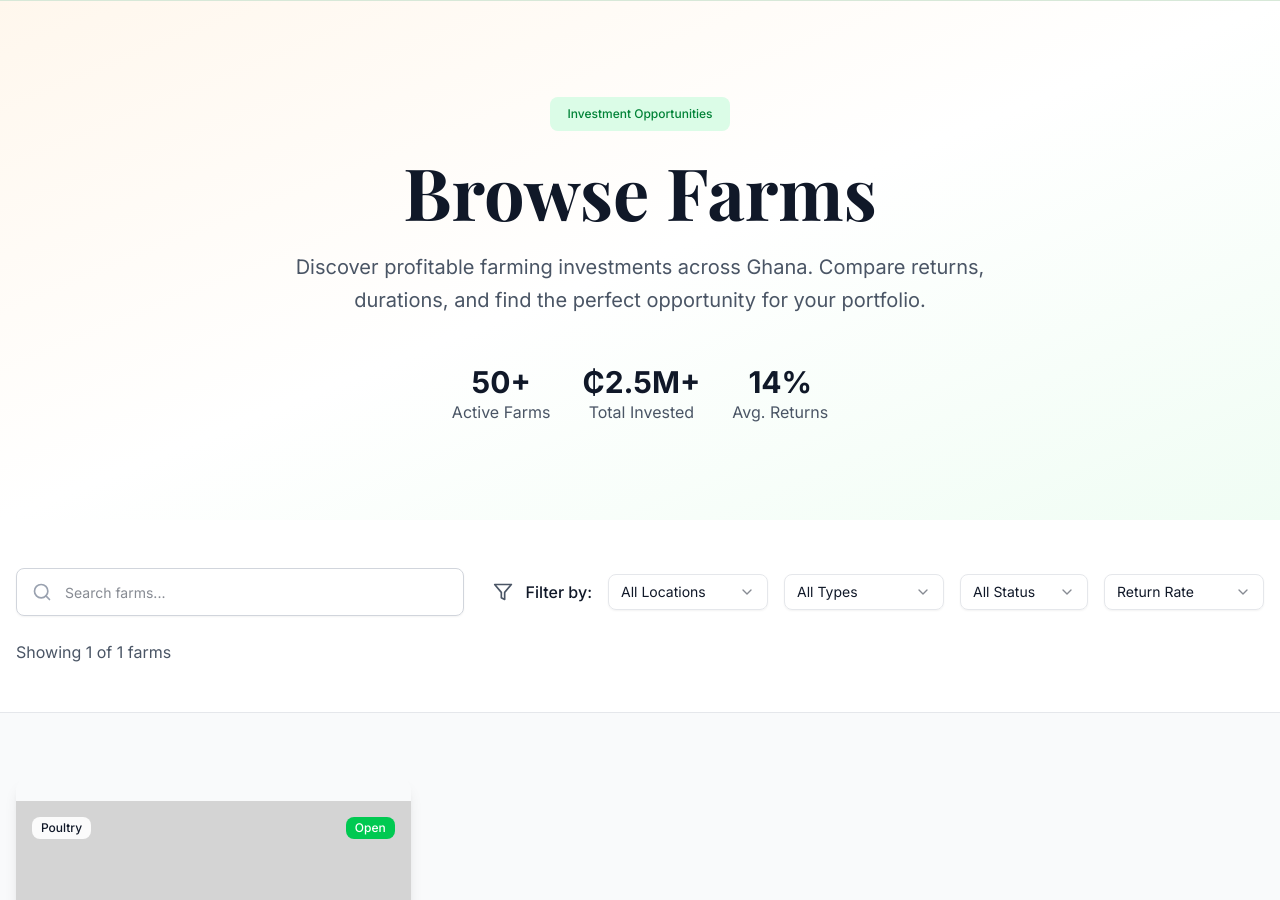
Test: farms pages › filters the loaded farms without refetching
The image size is (1280, 900).
Type "zzz-no-match" into the field with placeholder "Search farms..." at (240, 592), box top-left (16, 568), bottom-right (464, 616)
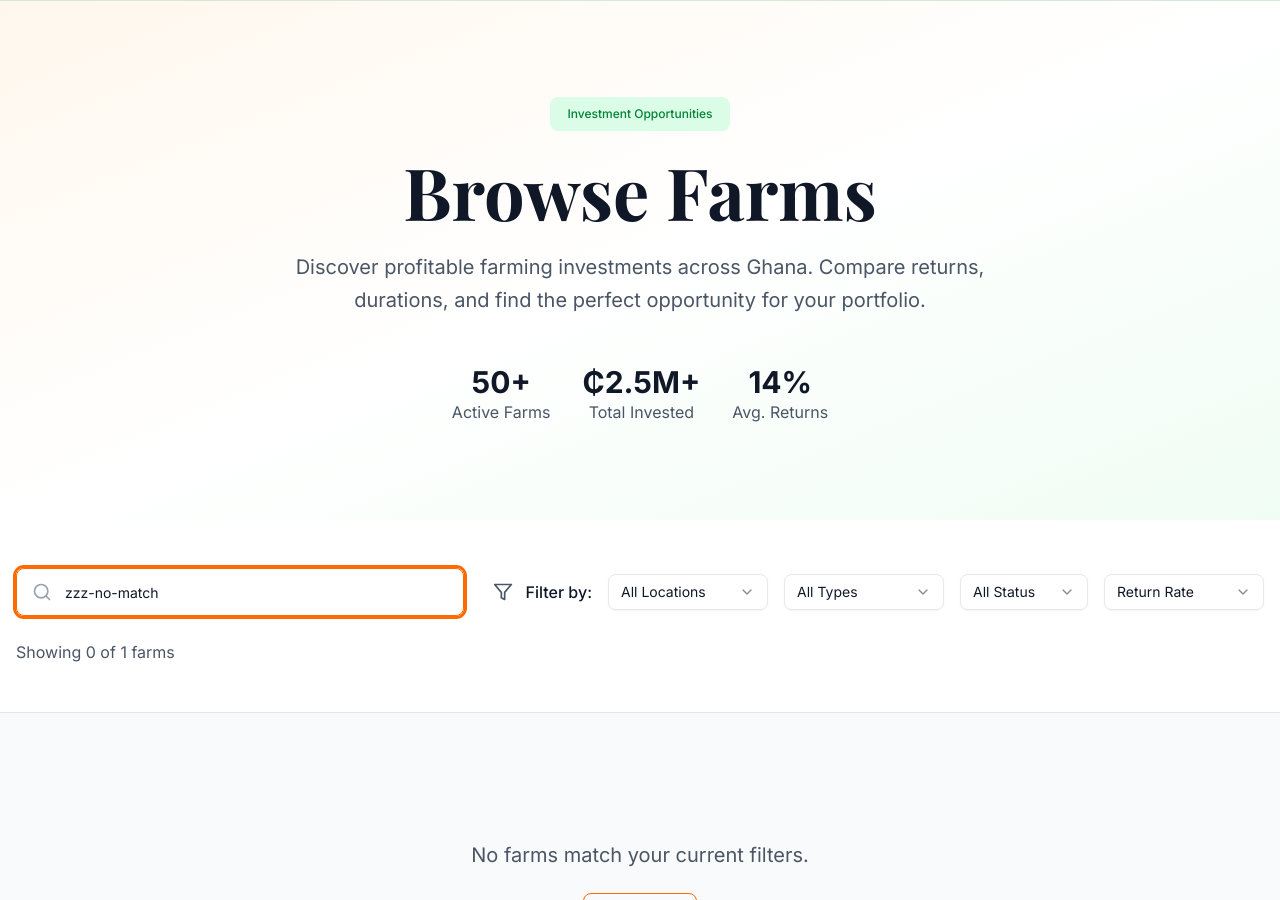
Now the text "No farms match your current filters." is shown, box top-left (471, 843), bottom-right (809, 867)
